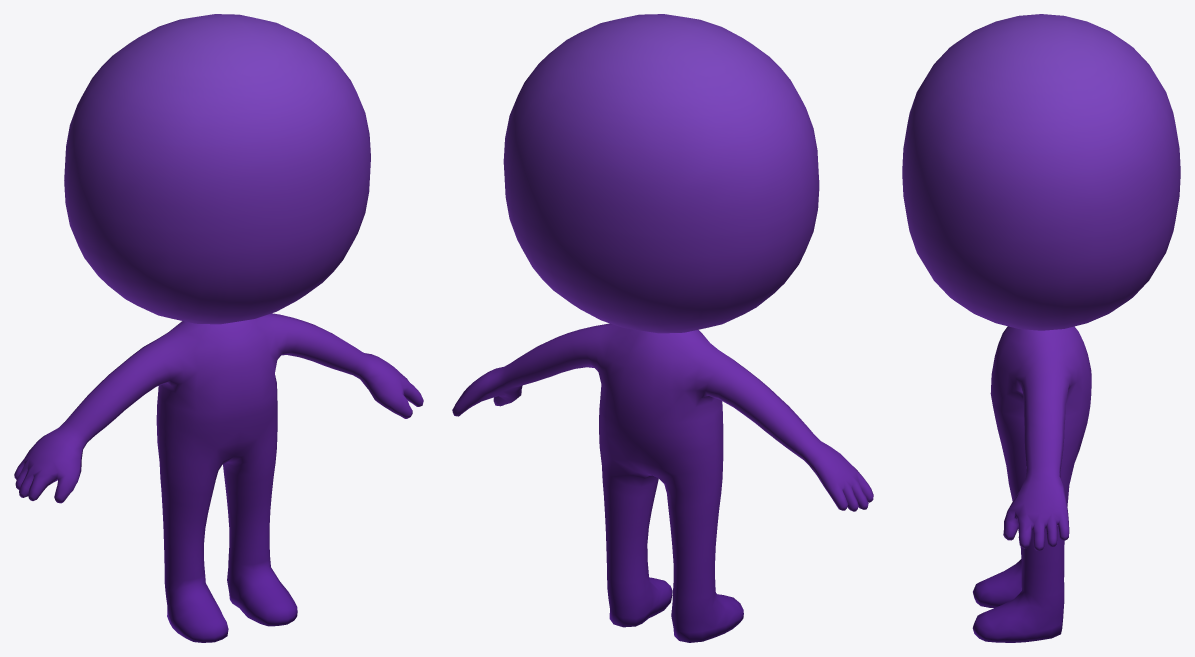
Rendered from Body_02.glb.
3 views of the same model, side by side, from view 1: azimuth 30°, elevation 25°; view 2: azimuth 150°, elevation 25°; view 3: azimuth 270°, elevation 25° (orthographic). The views are drawn at different scales.
Parts seen in each view (by area): view 1: Body_02; view 2: Body_02; view 3: Body_02.
Boxes of the visible parts, x1,y1,x2,y2 form: Body_02: [14, 14, 423, 642]; Body_02: [452, 14, 873, 642]; Body_02: [902, 14, 1180, 642].
Size of the model in its own units: 0.828 by 1.15 by 0.4965.
1 material, 1 textured.
